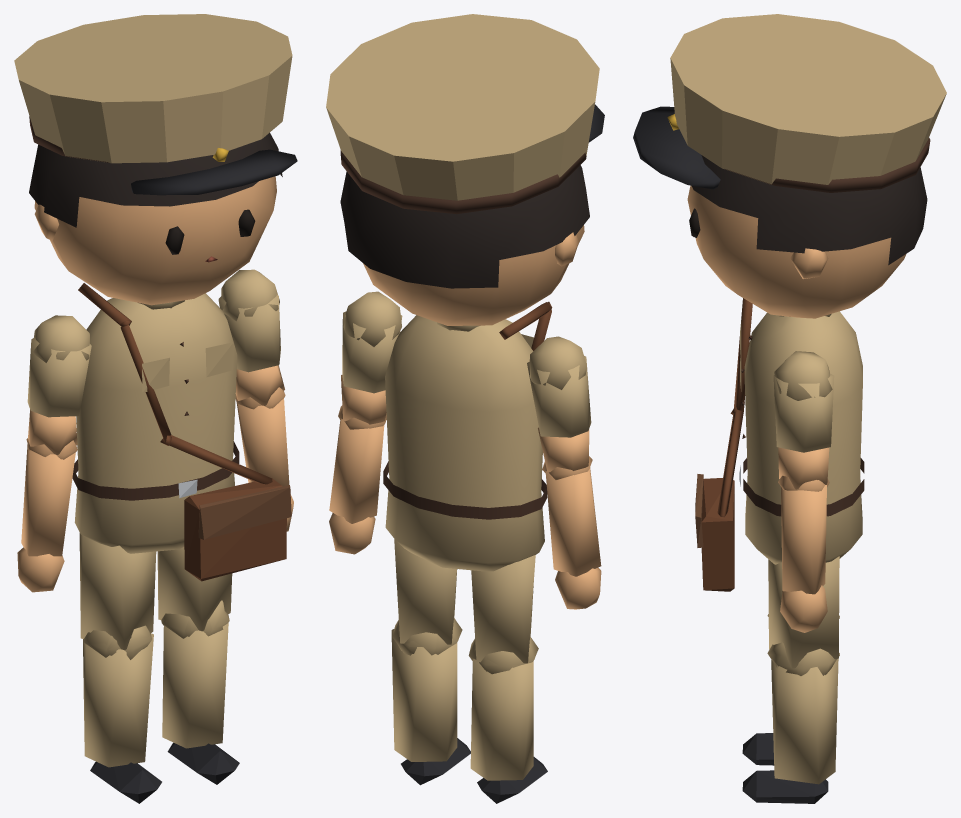
Rendered from era2_postman.glb.
3 views of the same model, side by side, from view 1: azimuth 30°, elevation 25°; view 2: azimuth 150°, elevation 25°; view 3: azimuth 270°, elevation 25° (orthographic).
Visible parts, largest first — view 1: head, body, shin_R, shin_L, arm_R, leg_R, arm_L, forearm_R, leg_L, forearm_L; view 2: head, body, shin_L, shin_R, arm_R, arm_L, leg_R, forearm_R, forearm_L, leg_L; view 3: head, body, shin_L, arm_L, forearm_L, leg_L, shin_R.
Part boxes in pixels (<box>): head: <box>14,14,297,305</box>; body: <box>72,283,291,581</box>; shin_R: <box>83,625,161,803</box>; shin_L: <box>162,600,239,784</box>; arm_R: <box>26,315,91,459</box>; leg_R: <box>79,533,156,657</box>; arm_L: <box>218,269,285,409</box>; forearm_R: <box>17,444,75,592</box>; leg_L: <box>157,547,232,638</box>; forearm_L: <box>236,394,293,531</box>; head: <box>326,14,604,325</box>; body: <box>383,301,552,571</box>; shin_L: <box>391,618,470,785</box>; shin_R: <box>468,637,547,803</box>; arm_R: <box>527,336,592,479</box>; arm_L: <box>338,291,402,429</box>; leg_R: <box>469,555,538,674</box>; forearm_R: <box>545,465,601,609</box>; forearm_L: <box>329,409,385,554</box>; leg_L: <box>392,539,462,655</box>; head: <box>633,14,946,318</box>; body: <box>695,298,864,591</box>; shin_L: <box>742,642,839,803</box>; arm_L: <box>773,351,834,490</box>; forearm_L: <box>778,475,827,632</box>; leg_L: <box>767,556,839,675</box>; shin_R: <box>742,615,839,765</box>.
Size of the model in its own units: 0.6011 by 1.54 by 0.6022.
